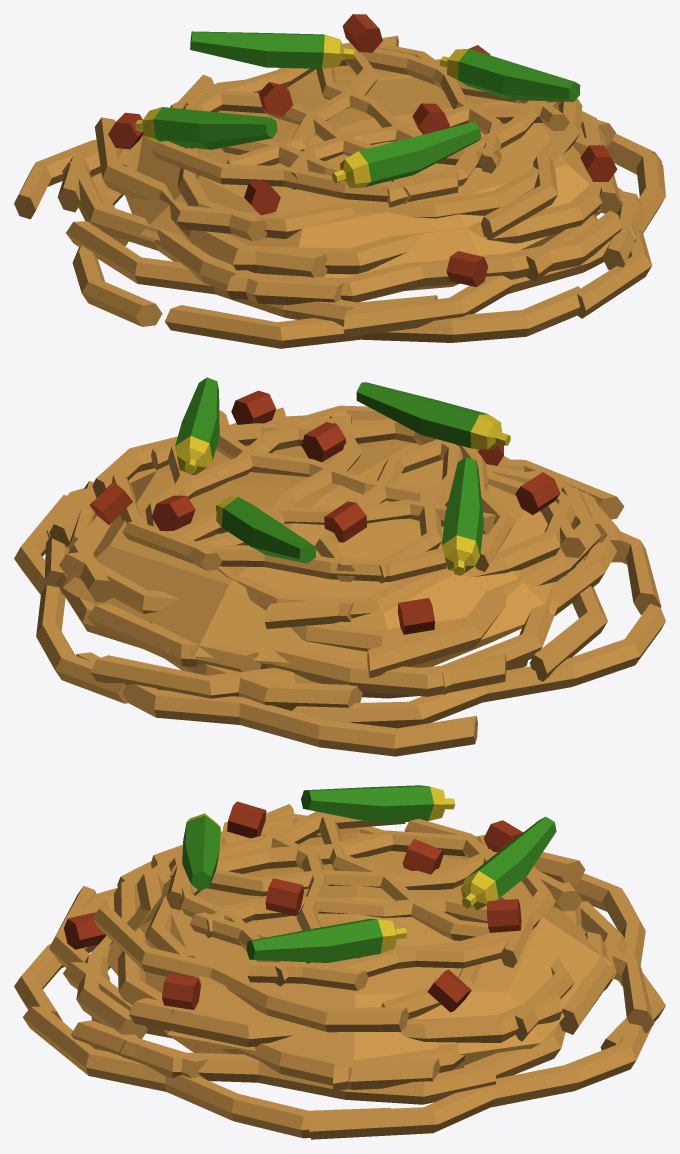
File: Pancit canton.fbx
3 renders of one model, top to bottom at view 1: azimuth 30°, elevation 25°; view 2: azimuth 150°, elevation 25°; view 3: azimuth 270°, elevation 25°, orthographic. The views are drawn at different scales.
Visible parts, largest first — view 1: Pancit Canton; view 2: Pancit Canton; view 3: Pancit Canton.
Boxes of the visible parts, bbox=[...] form: Pancit Canton: bbox=[14, 14, 665, 348]; Pancit Canton: bbox=[14, 377, 665, 756]; Pancit Canton: bbox=[14, 785, 665, 1139].
Bounding box in the file's own units: 77.74 × 21.67 × 74.79.
